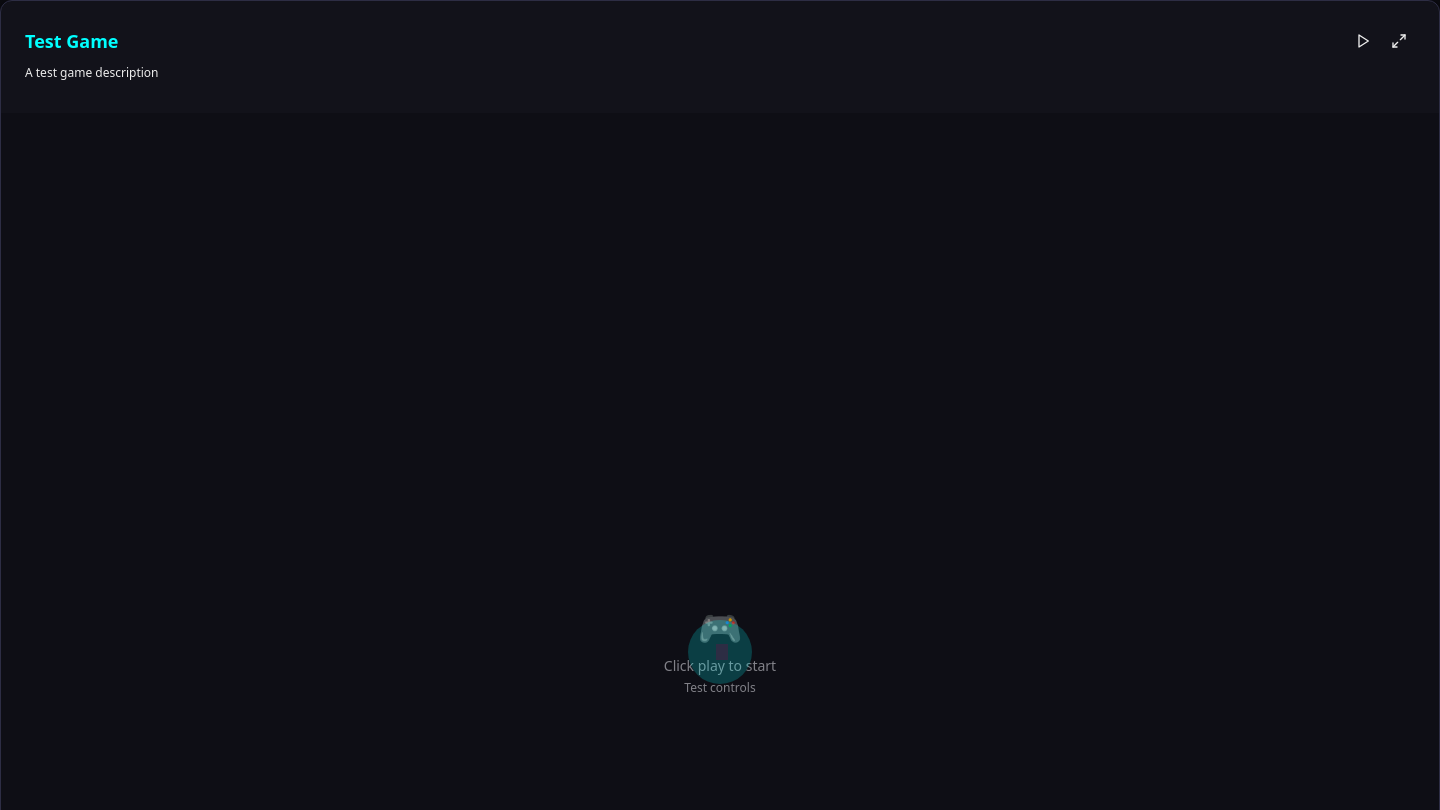
GameCard › toggles pause state when play button clicked
Expected: the text "Click play to start" is shown, x1=664 y1=656 x2=776 y2=676
# Click play
Click the button named "play".
click(1363, 41)  # box x1=1347 y1=25 x2=1379 y2=57
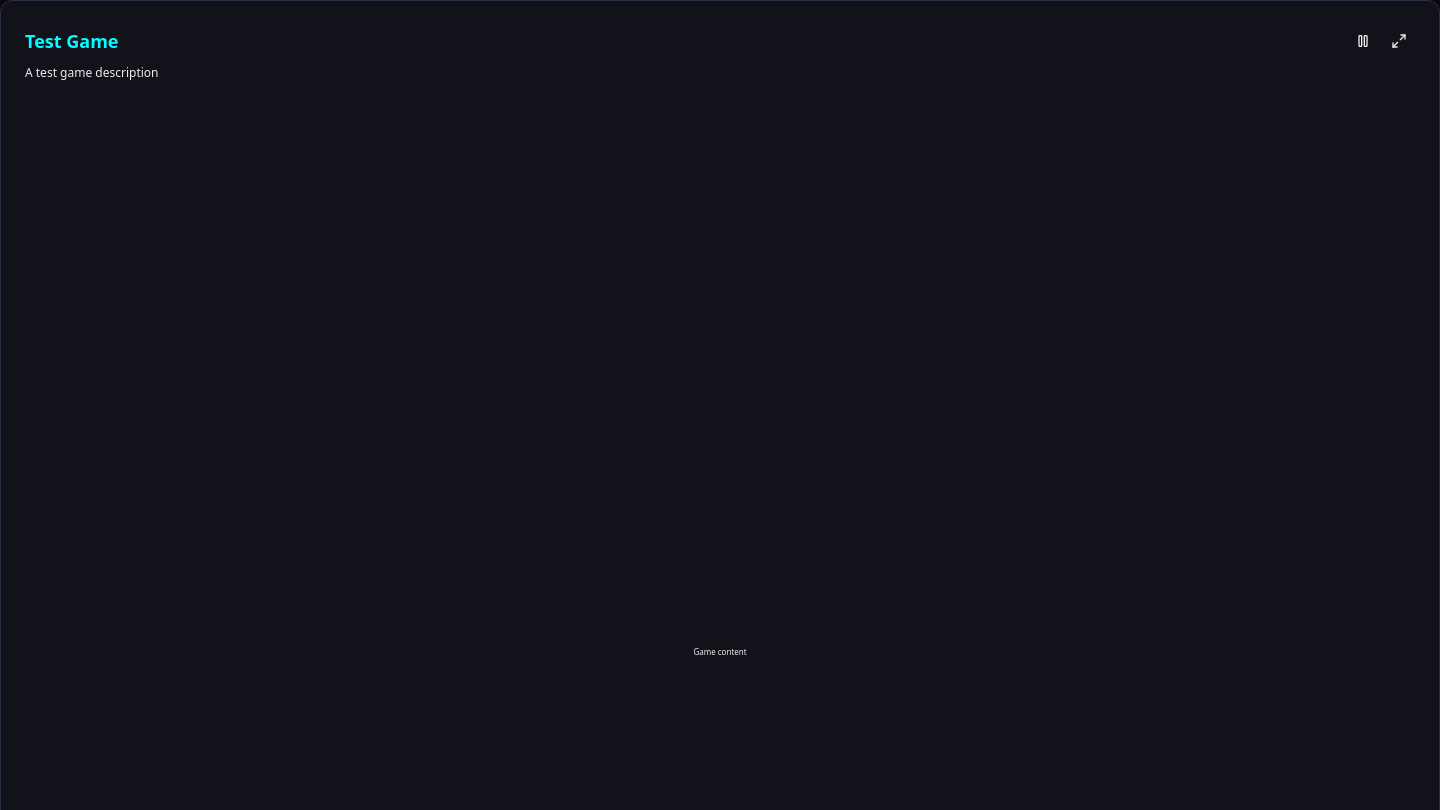
Expected: the text "Click play to start" is gone
